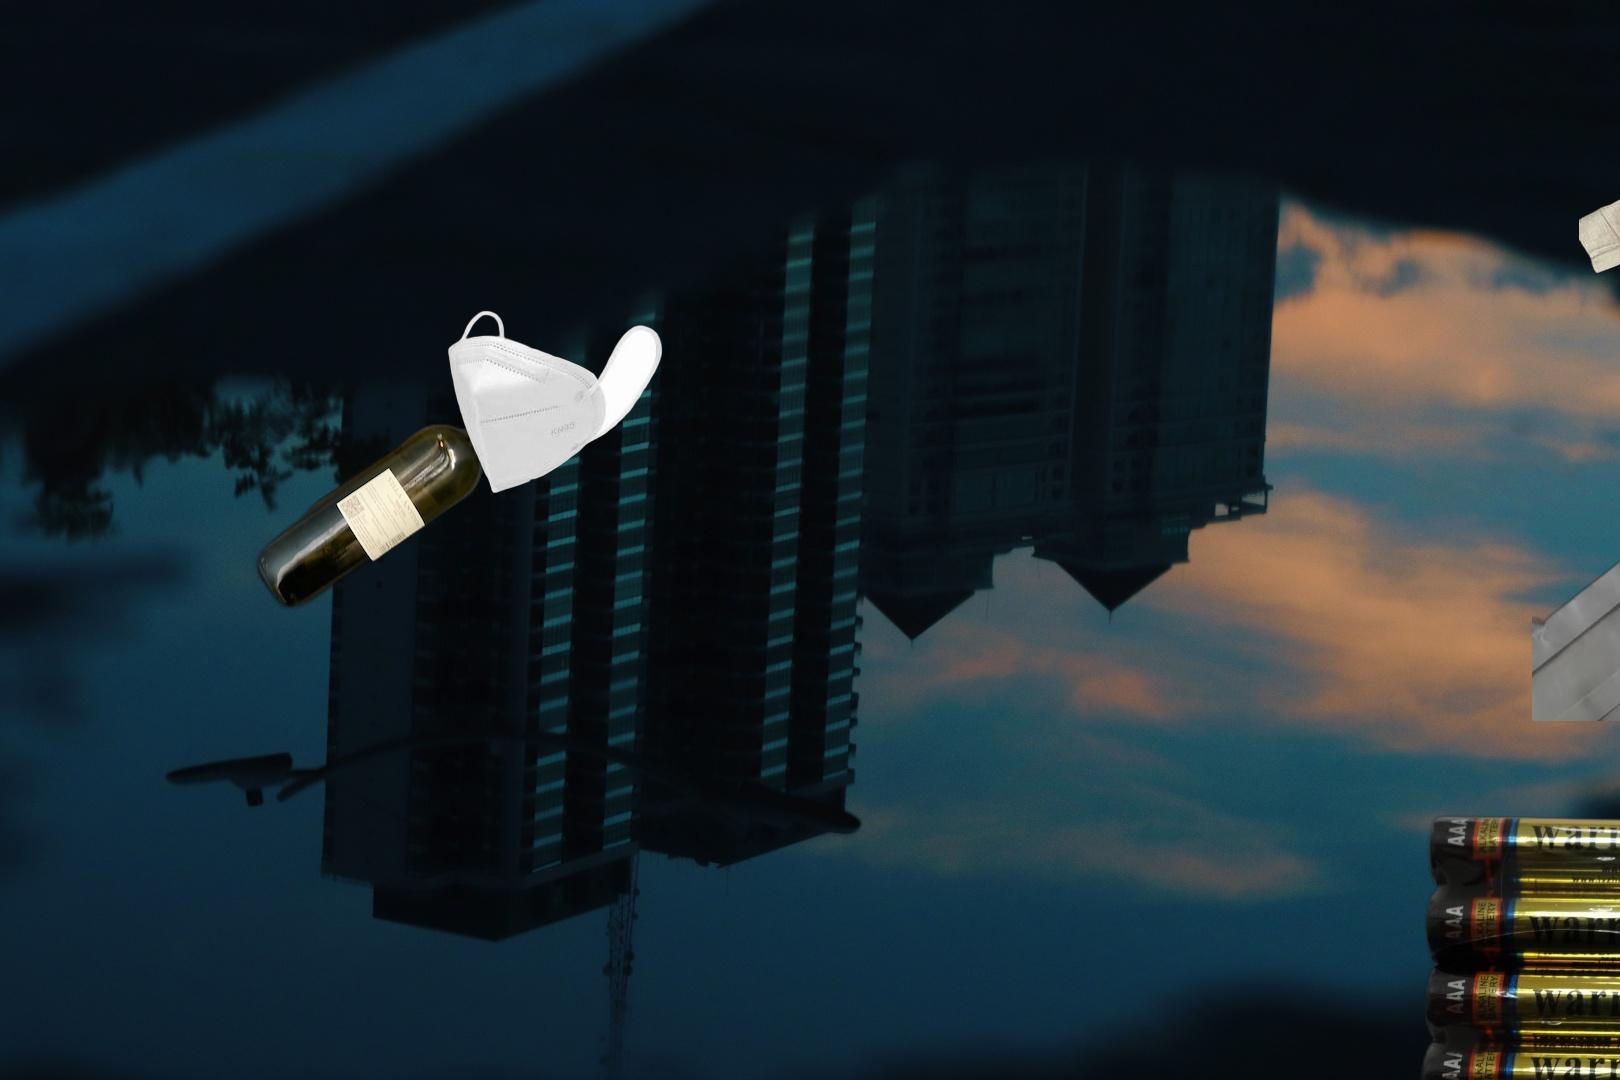battery: (1414, 812, 1620, 1080)
clothes: (1579, 16, 1620, 363)
glass: (251, 378, 554, 614)
paper: (1532, 398, 1620, 721)
trash: (445, 309, 665, 495)
